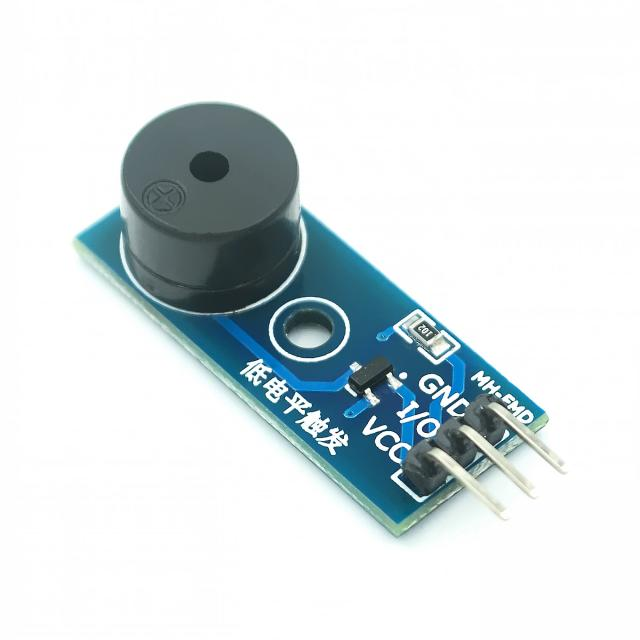4439: (344, 353, 400, 402)
buzzer: (117, 92, 316, 315)
connector -5v-: (392, 393, 573, 514)
resistor IR1: (406, 314, 451, 358)
